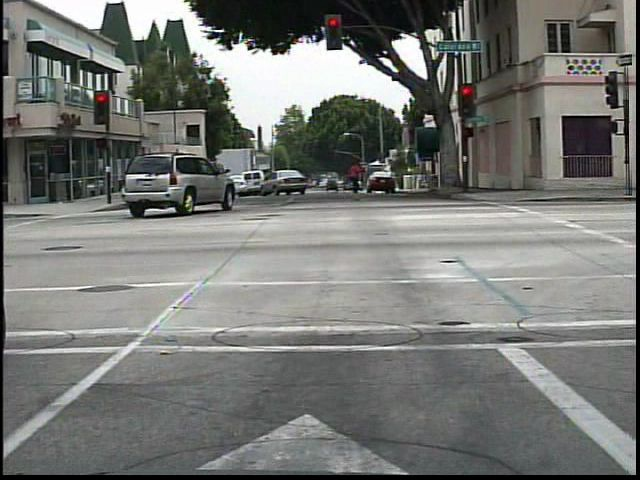person: (340, 156, 369, 202)
